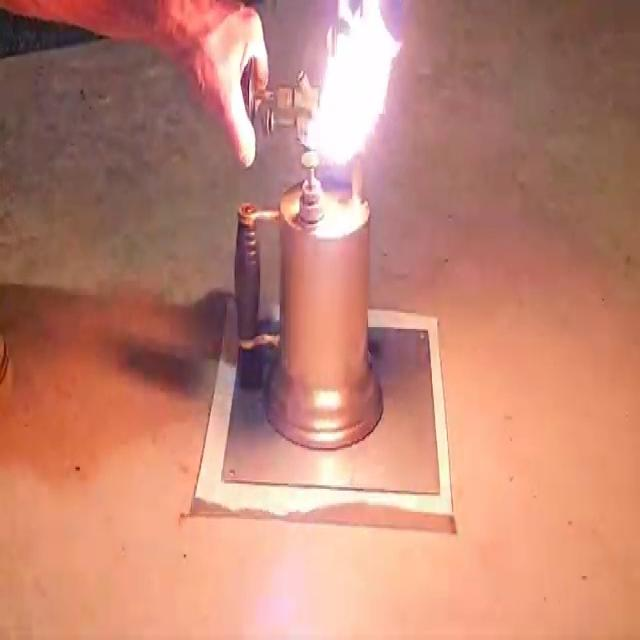fire: (300, 4, 404, 183)
